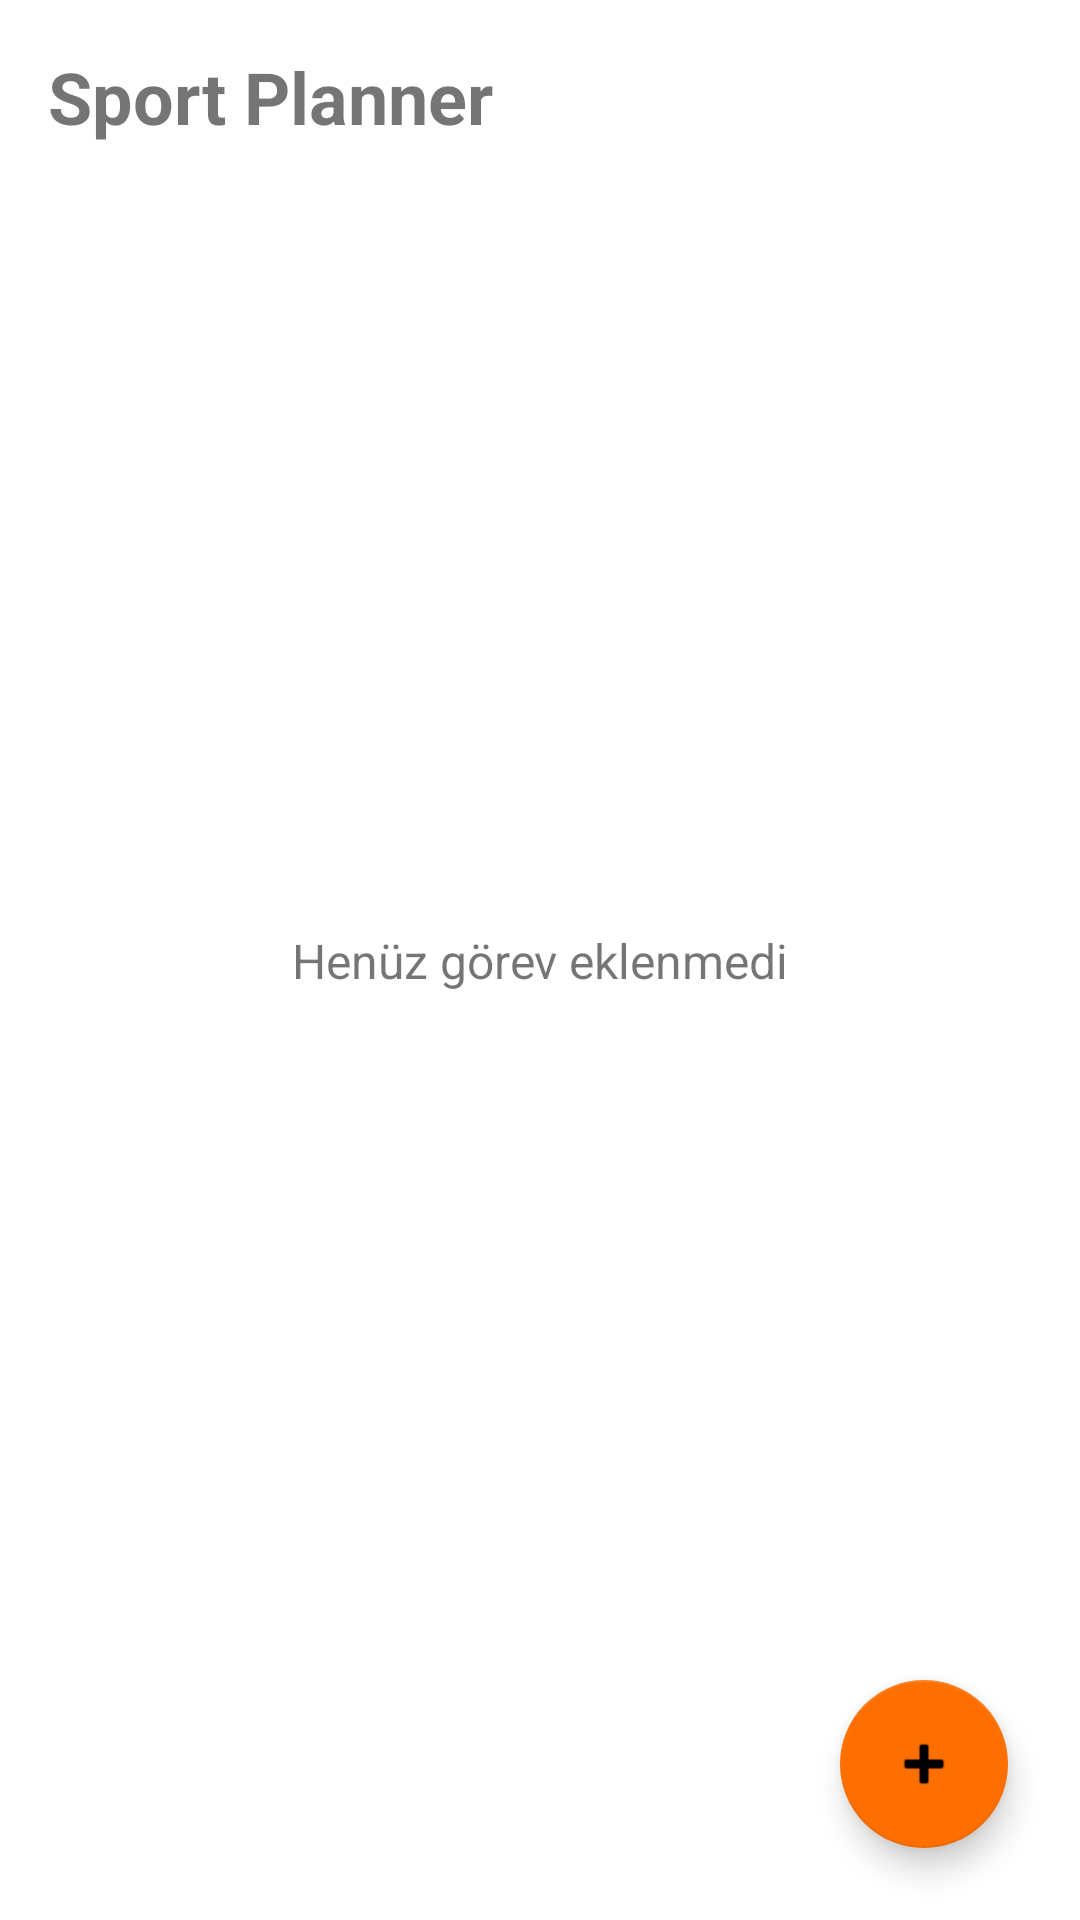

Icons on this 1080px x 1920px Android screen, each with the point to tap as point (x, y):
add: point (924, 1764)
